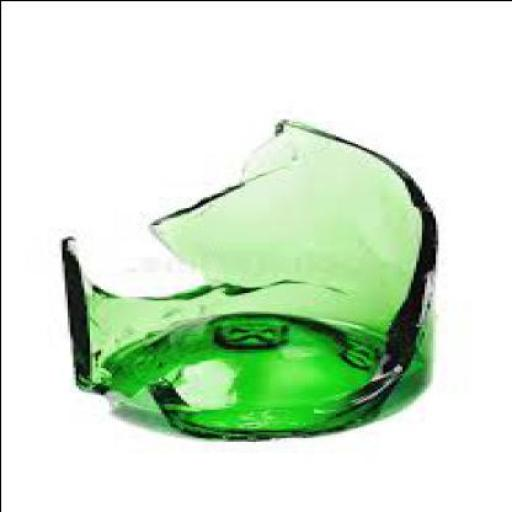glass: (64, 114, 438, 437)
